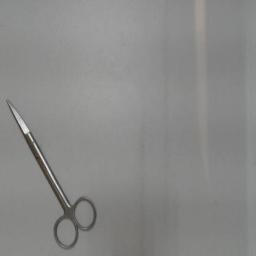Curved Mayo Scissors: (3, 94, 101, 254)
